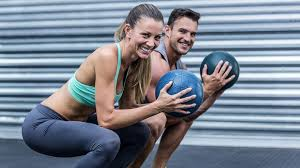blue ball: (156, 69, 204, 112), (201, 52, 240, 90)
